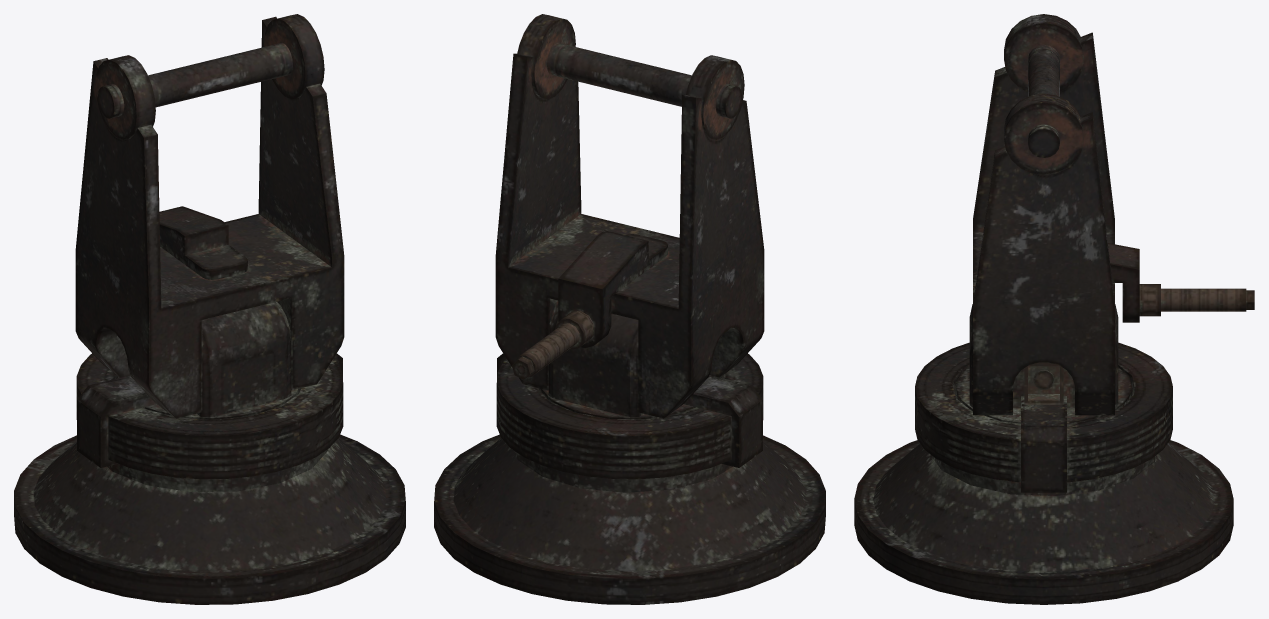
File: Harpoon.fbx
3 views of the same model, side by side, from view 1: azimuth 30°, elevation 25°; view 2: azimuth 150°, elevation 25°; view 3: azimuth 270°, elevation 25° (orthographic). The views are drawn at different scales.
Visible parts, largest first — view 1: SM_DS_Garpun_Down, SM_DS_Garpun_Base; view 2: SM_DS_Garpun_Down, SM_DS_Garpun_Base; view 3: SM_DS_Garpun_Base, SM_DS_Garpun_Down.
Boxes of the visible parts, x1=… form: SM_DS_Garpun_Down: x1=75, y1=14, x2=344, y2=467; SM_DS_Garpun_Base: x1=14, y1=353, x2=405, y2=604; SM_DS_Garpun_Down: x1=495, y1=14, x2=764, y2=467; SM_DS_Garpun_Base: x1=434, y1=353, x2=825, y2=604; SM_DS_Garpun_Base: x1=854, y1=342, x2=1233, y2=604; SM_DS_Garpun_Down: x1=955, y1=14, x2=1254, y2=492.
Bounding box in the file's own units: 97.34 × 133 × 103.
